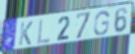2: (56, 16, 71, 42)
6: (114, 7, 129, 34)
7: (76, 11, 92, 40)
G: (93, 10, 111, 37)
K: (18, 20, 34, 47)
L: (36, 18, 51, 46)
